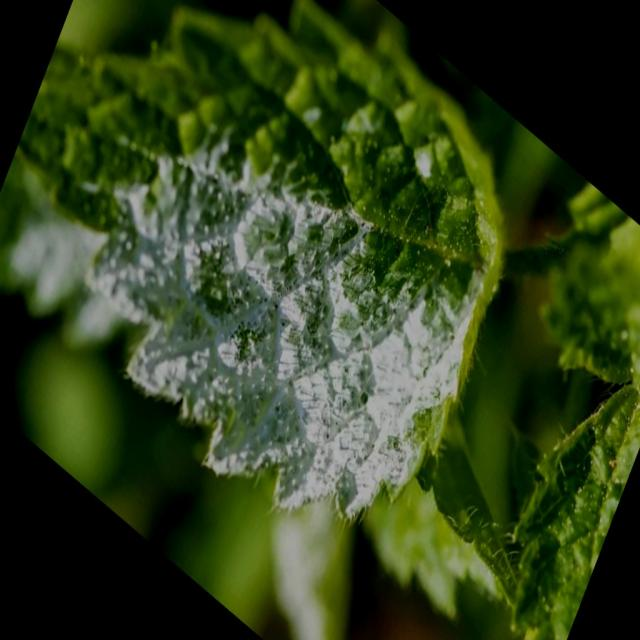Powdery Mildew: (81, 118, 485, 523)
